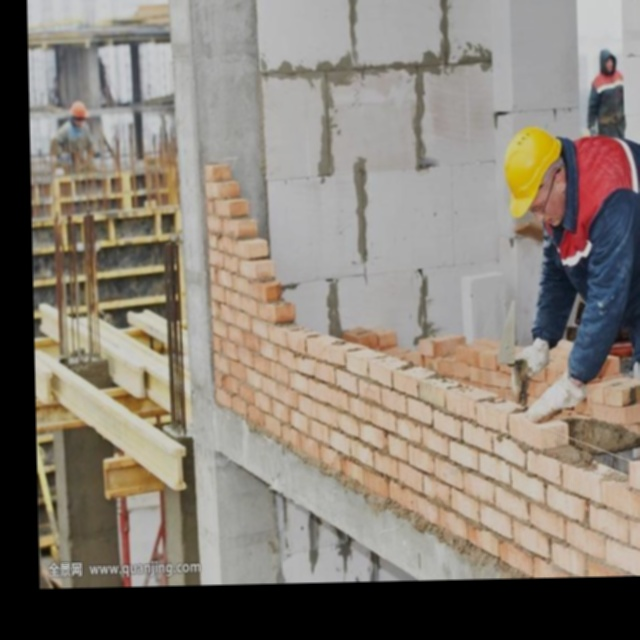Con_Casco: (504, 127, 569, 224)
